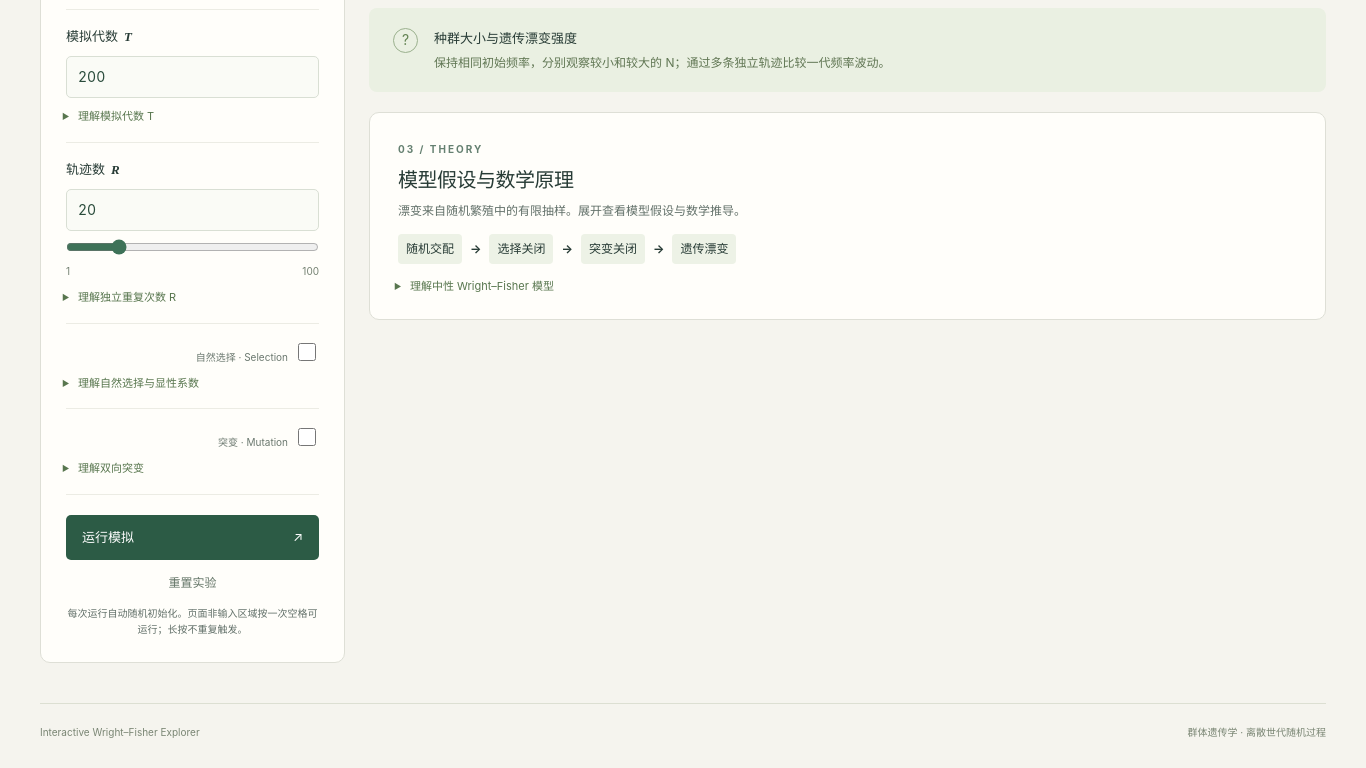
teaching experiment › runs, inspects generations, invalidates stale results and resets
The width and height of the screenshot is (1366, 768).
(page scrolled)
Click the button "运行模拟 ↗": (192, 537) [66,515,319,560]
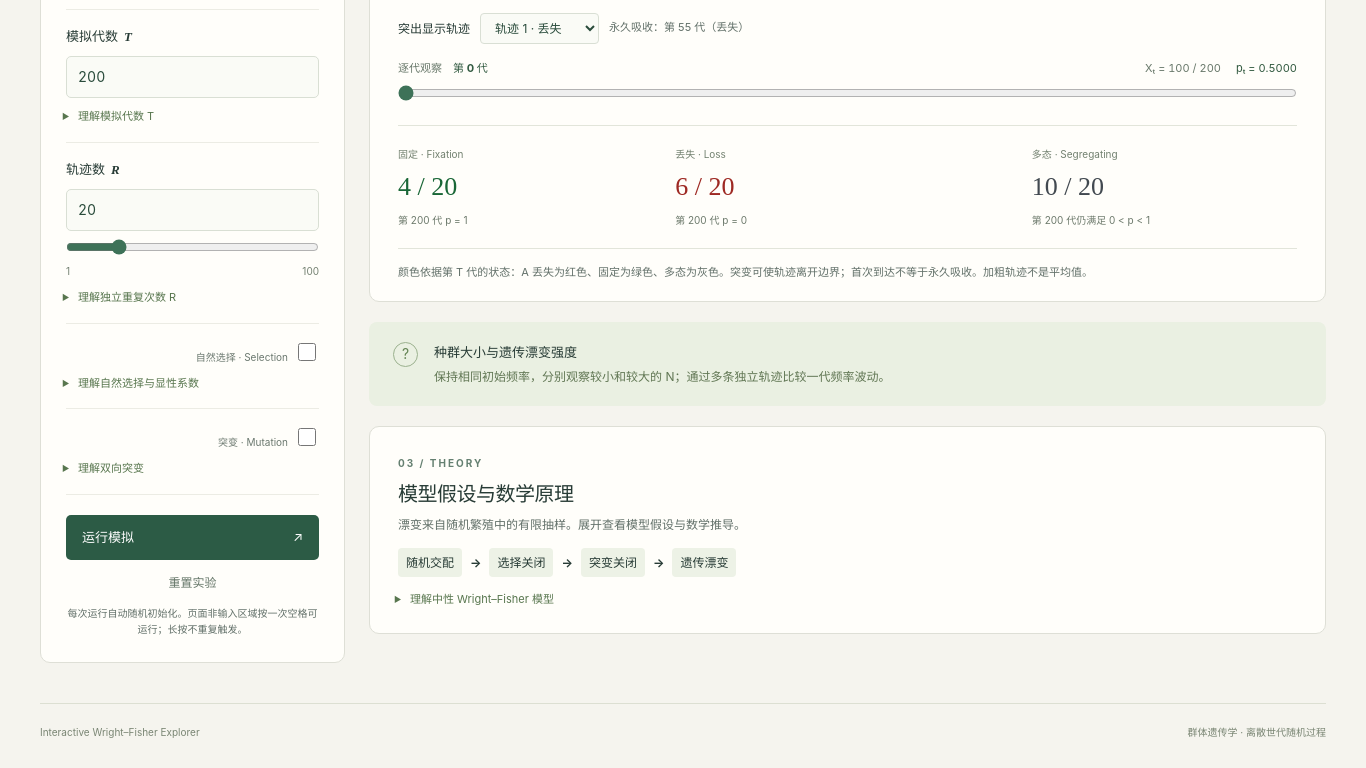
Set the slider named "观察世代" to "200": (1289, 93) [398,85,1297,101]
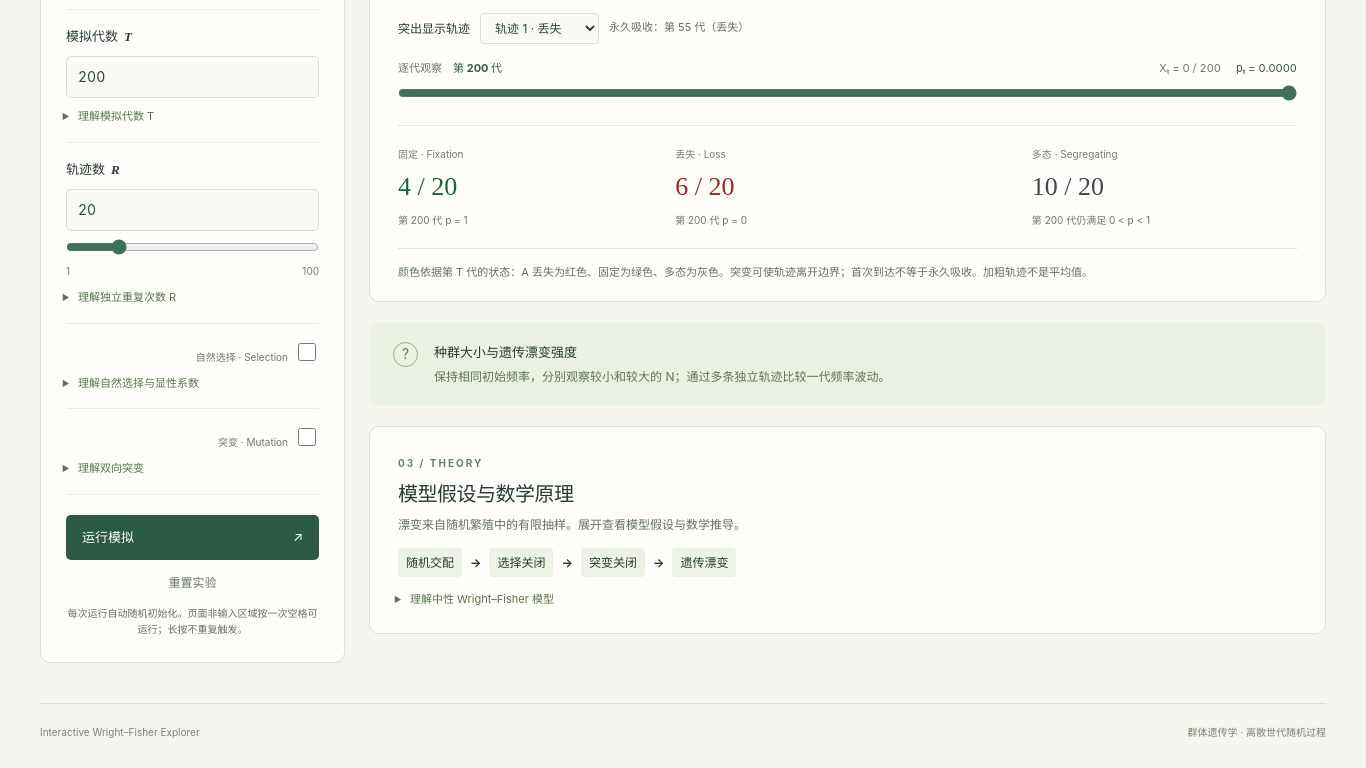
Expected: the text "第 200 代" is shown, [453,61,502,75]
Replace the text in the number field labelled "模拟代数 T" with "20": (192, 77) [66,56,319,98]
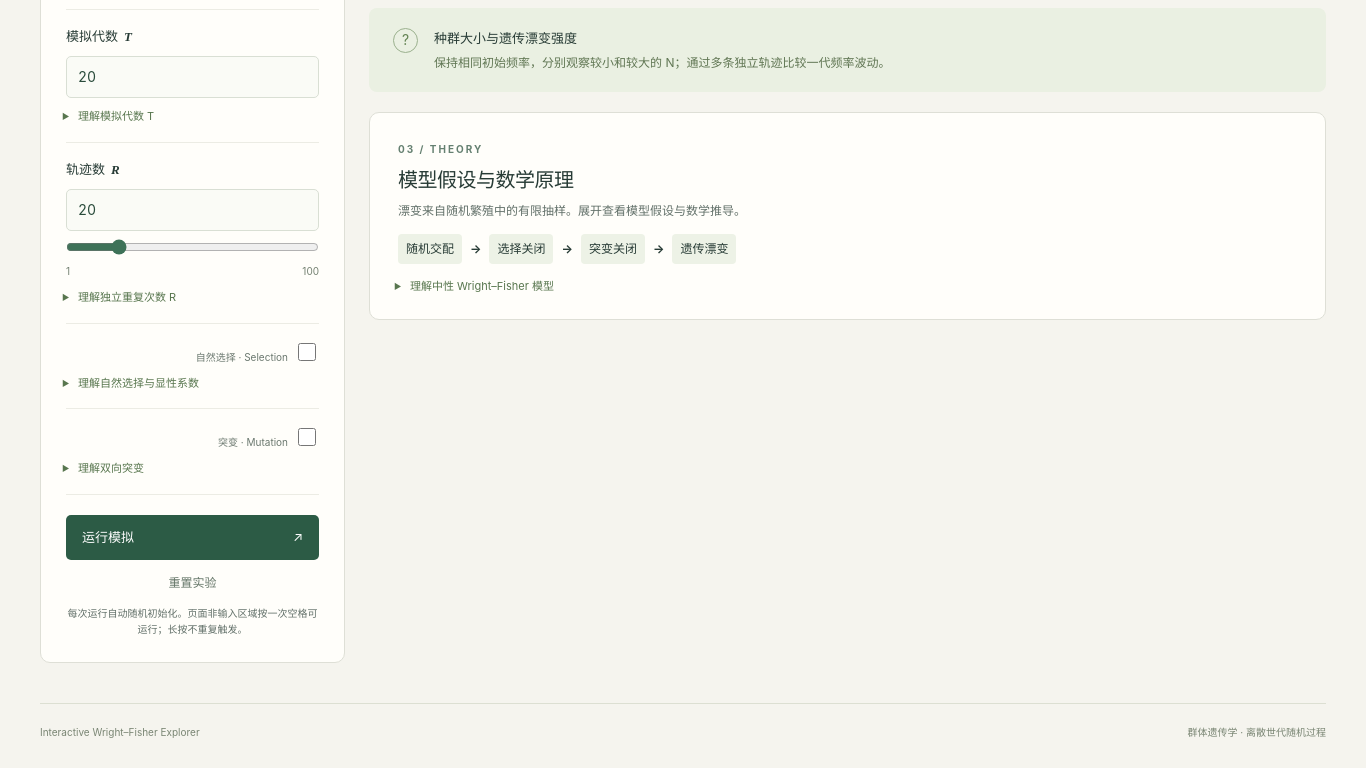
Click the button "重置实验": (192, 582) [162,572,222,593]
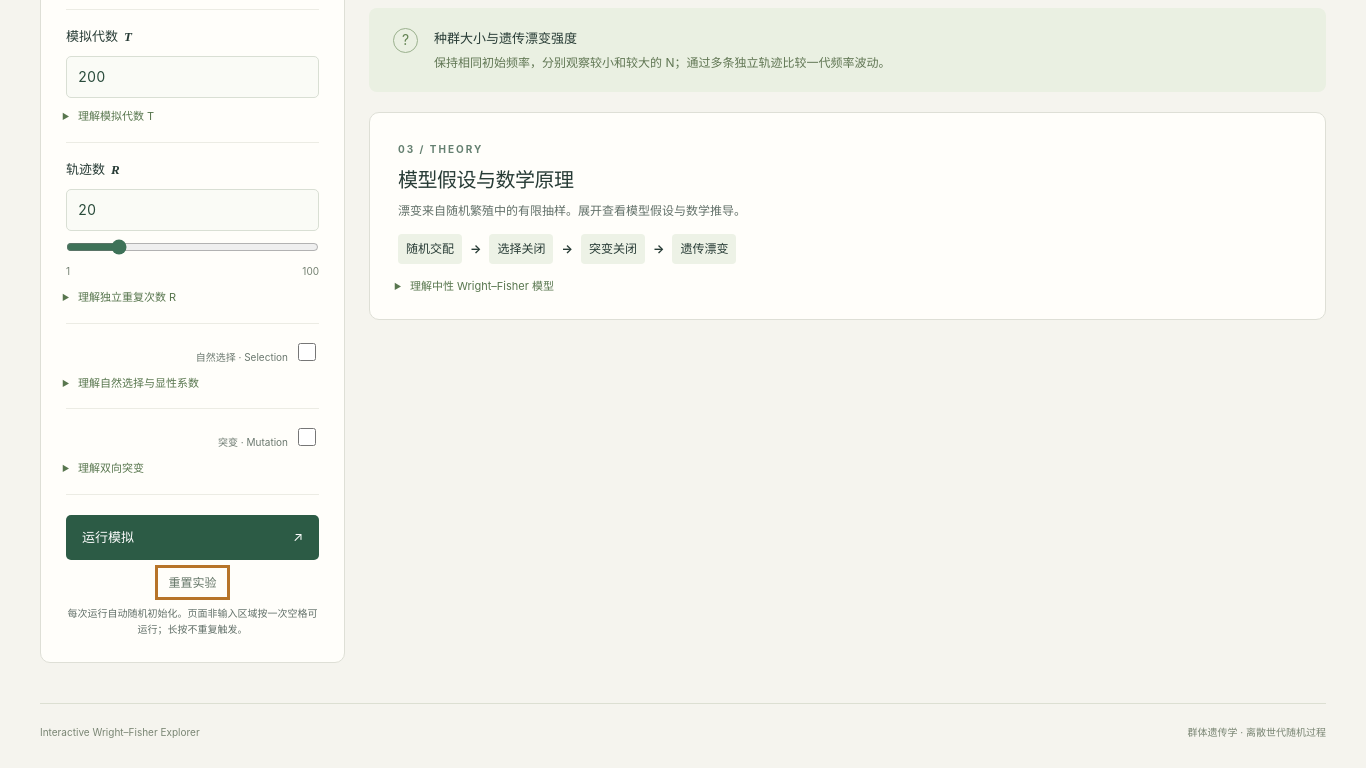
Expected: the number field labelled "模拟代数 T" holds "200", [66,56,319,98]
